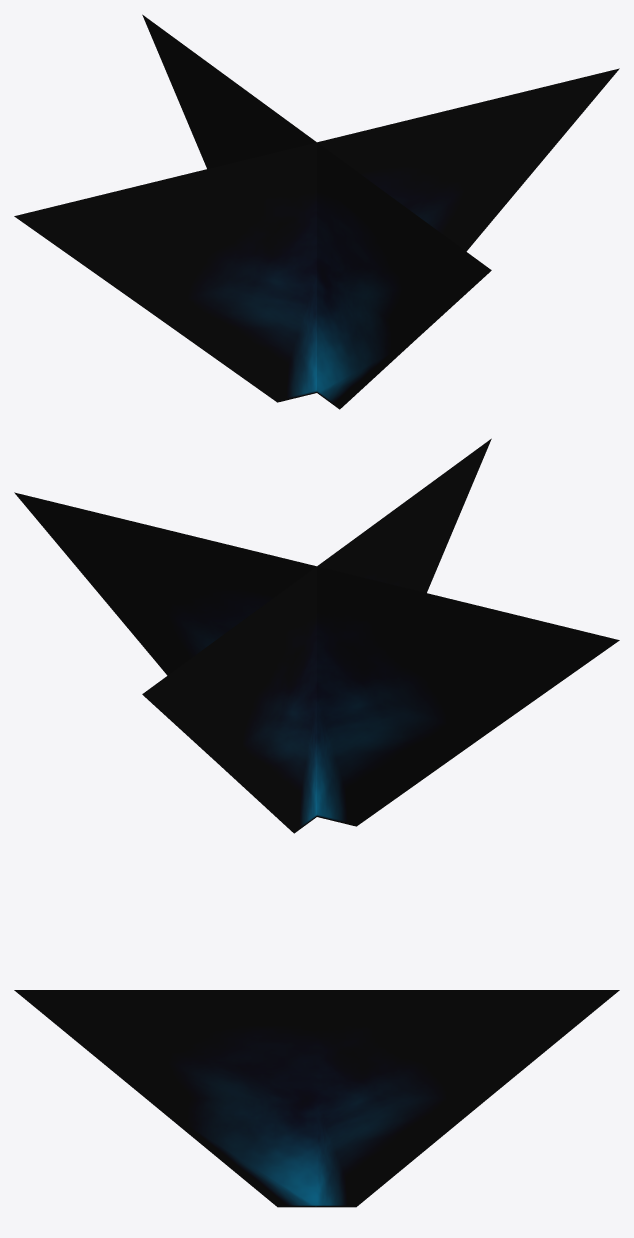
The picture shows the model from 3 angles, top to bottom: view 1: azimuth 30°, elevation 25°; view 2: azimuth 150°, elevation 25°; view 3: azimuth 270°, elevation 25°; orthographic projection. The views are drawn at different scales.
Parts seen in each view (by area): view 1: layer_00_oe331U00; view 2: layer_00_oe331U00; view 3: layer_00_oe331U00.
Part boxes in pixels (x1,y1,x2,y2): layer_00_oe331U00: (14,14,619,409); layer_00_oe331U00: (14,438,619,833); layer_00_oe331U00: (14,990,619,1207).
Size of the model in its own units: 153 by 60.36 by 153.
1 material, 1 textured.
